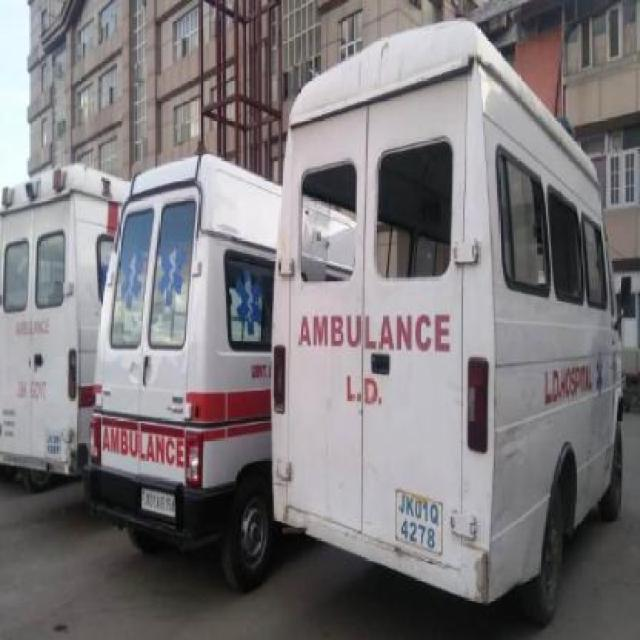Ambulance: (281, 68, 640, 582), (118, 153, 280, 570), (8, 161, 102, 511)
